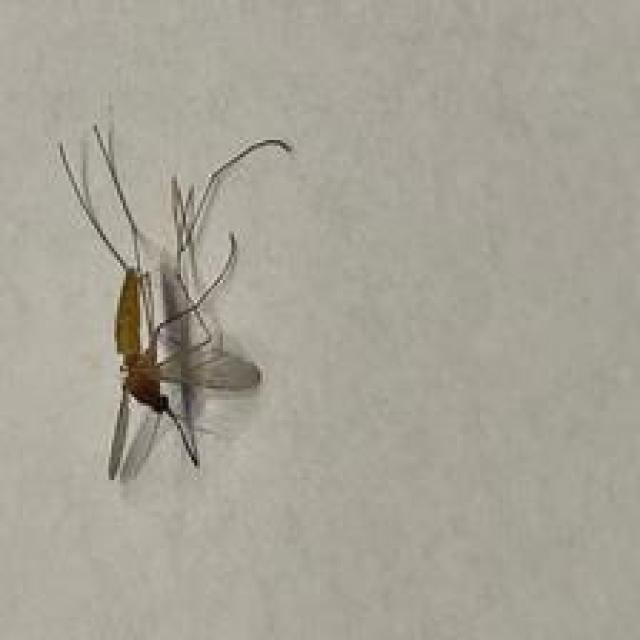Culex: (54, 104, 294, 484)
